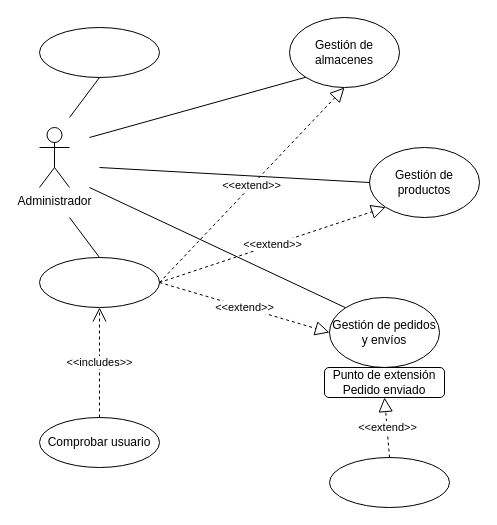
The diagram is 497 pixels wide and 525 high, and some of its shapes have lost their labels. Here are the shapes that lost their labels. From the top down, the box of each, then its label:
(38, 26, 160, 78): Registrar Admin
(38, 256, 160, 308): Log in
(328, 456, 450, 508): Modificar estado pedido
